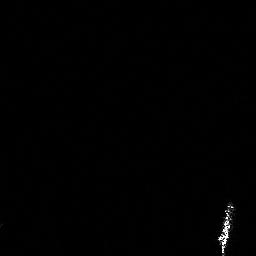ship: (214, 198, 237, 256)
